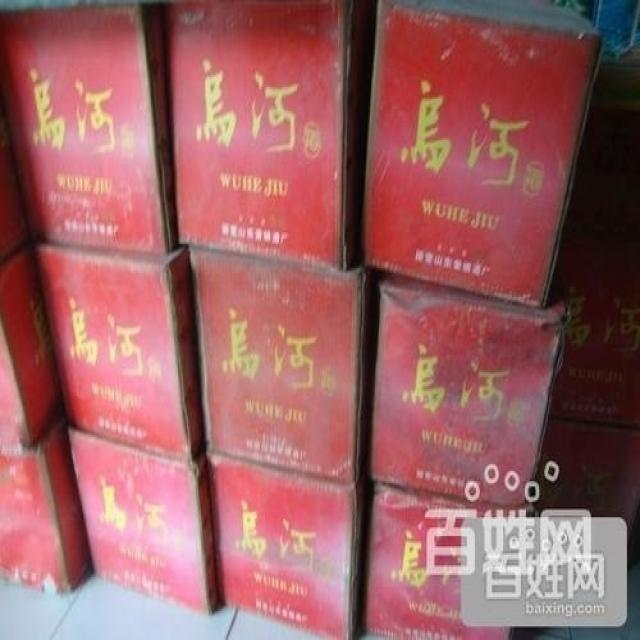box: (361, 1, 639, 310), (366, 272, 639, 516), (170, 4, 377, 273), (185, 244, 380, 482), (0, 3, 179, 256), (37, 242, 207, 463), (210, 451, 367, 638), (69, 425, 223, 614), (367, 479, 531, 638), (0, 419, 94, 601), (0, 237, 60, 449), (0, 49, 33, 265)
